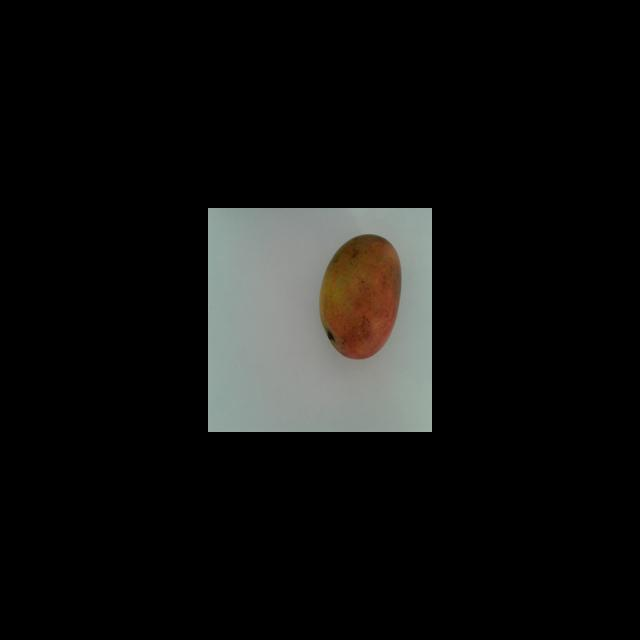Mango: (318, 233, 401, 359)
